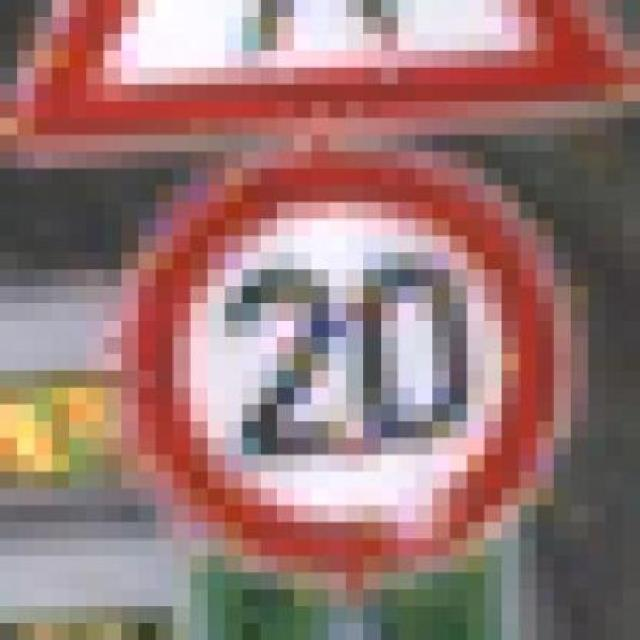forb_speed_over_20: (123, 153, 572, 573)
